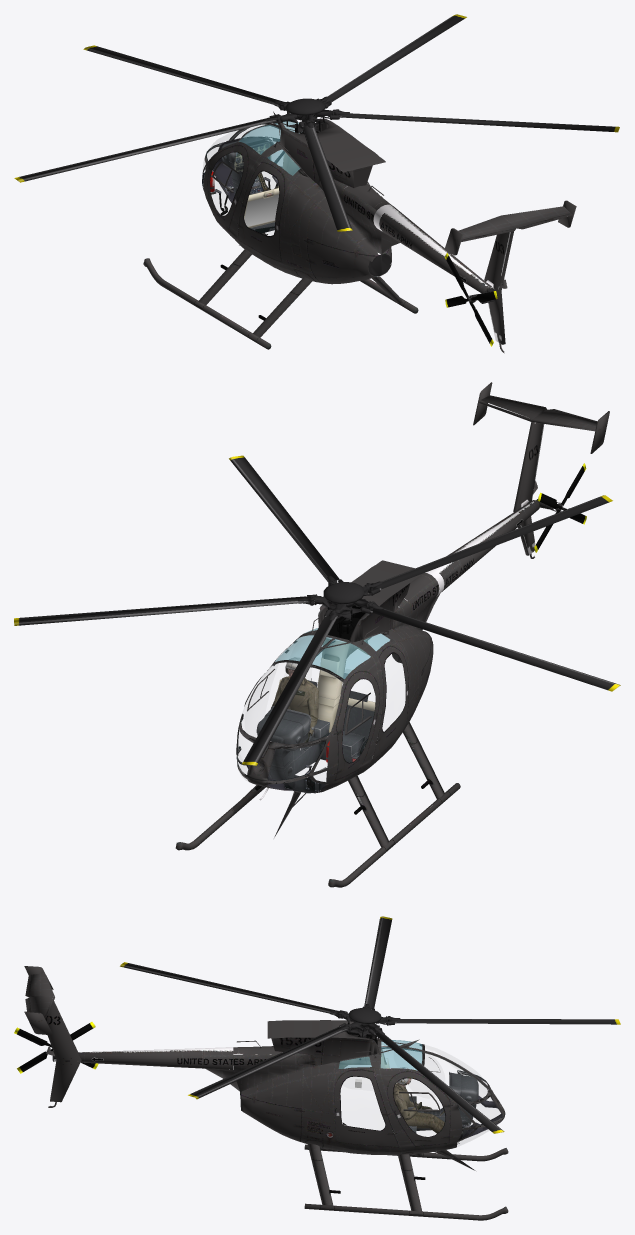
3 views of the same model, one above another, from view 1: azimuth 30°, elevation 25°; view 2: azimuth 150°, elevation 25°; view 3: azimuth 270°, elevation 25° (orthographic). The views are drawn at different scales.
Parts seen in each view (by area): view 1: ext_fuselage1, rotor_main, ext_fuselage2, ext_tail, glasss_grn, int_seats2, int_console, rotor_tail, glass; view 2: rotor_main, ext_fuselage1, ext_fuselage2, ext_tail, int_console, glasss_grn, int_seats2, int_fuselage3, int_pilotR, glass, rotor_tail; view 3: ext_fuselage1, rotor_main, ext_fuselage2, ext_tail, glass, int_pilotR, glasss_grn, int_console, rotor_tail.
Boxes of the visible parts, <box> form: ext_fuselage1: <box>202,111,391,278</box>; rotor_main: <box>14,14,619,231</box>; ext_fuselage2: <box>143,118,418,349</box>; ext_tail: <box>344,183,576,353</box>; glasss_grn: <box>239,121,299,175</box>; int_seats2: <box>238,188,279,233</box>; int_console: <box>210,137,273,194</box>; rotor_tail: <box>444,253,497,346</box>; glass: <box>203,125,275,214</box>; rotor_main: <box>14,455,620,765</box>; ext_fuselage1: <box>244,579,439,837</box>; ext_fuselage2: <box>175,560,460,887</box>; ext_tail: <box>404,382,609,621</box>; int_console: <box>256,706,329,788</box>; glasss_grn: <box>275,628,389,678</box>; int_seats2: <box>278,679,381,762</box>; int_fuselage3: <box>317,637,371,732</box>; int_pilotR: <box>271,657,318,742</box>; glass: <box>238,664,311,792</box>; rotor_tail: <box>534,463,586,552</box>; ext_fuselage1: <box>233,1027,495,1170</box>; rotor_main: <box>120,916,620,1133</box>; ext_fuselage2: <box>240,1020,508,1220</box>; ext_tail: <box>24,966,281,1107</box>; glass: <box>343,1045,500,1146</box>; int_pilotR: <box>393,1067,463,1138</box>; glasss_grn: <box>338,1040,422,1070</box>; int_console: <box>416,1072,478,1135</box>; rotor_tail: <box>14,1022,98,1073</box>.
Size of the model in its own units: 7.48 by 3.44 by 9.23.
Materials: 11 (11 with a texture image).
